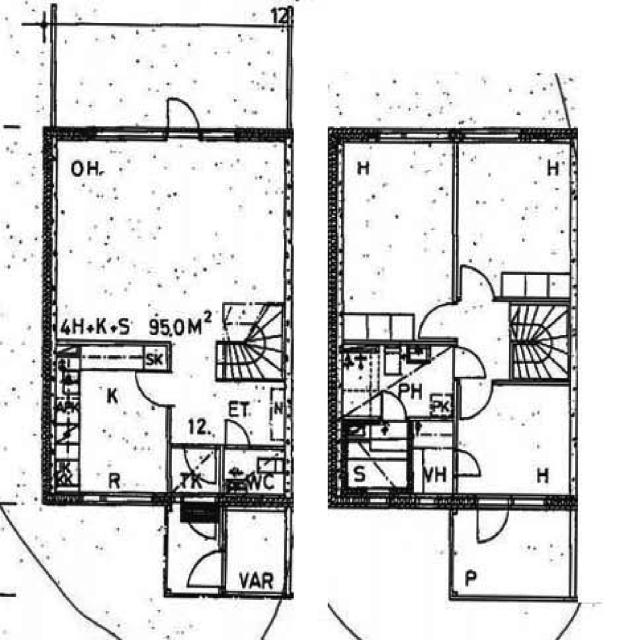door: (458, 262, 498, 310), (416, 300, 456, 342), (185, 550, 225, 591), (474, 502, 511, 546), (457, 379, 494, 420), (166, 94, 200, 134), (452, 344, 488, 379), (453, 447, 486, 479), (223, 417, 252, 447), (381, 392, 408, 421)
window: (567, 189, 584, 262), (376, 129, 442, 143), (464, 130, 520, 144), (509, 493, 550, 512), (199, 128, 237, 144)
zone: (52, 145, 284, 346), (56, 26, 287, 127), (336, 144, 455, 328), (456, 142, 576, 286), (459, 381, 574, 497), (64, 369, 168, 496), (460, 509, 576, 600), (340, 340, 454, 416), (224, 508, 288, 594), (336, 422, 410, 496), (220, 380, 289, 446), (222, 446, 287, 501), (219, 338, 284, 380), (169, 399, 225, 445), (170, 446, 221, 492), (223, 302, 283, 341), (412, 445, 454, 495), (184, 550, 226, 589), (410, 418, 455, 448)
